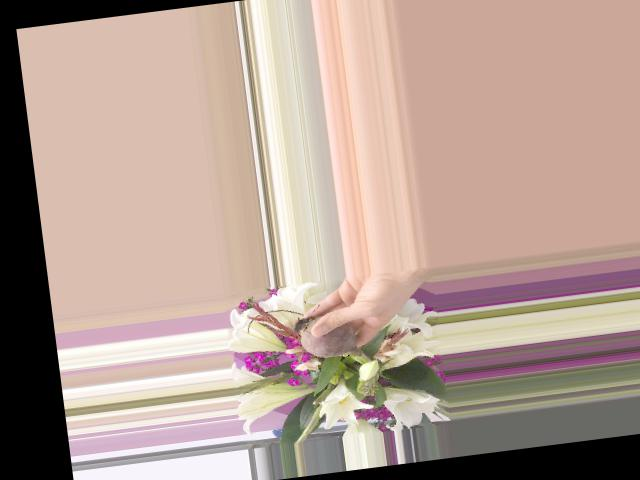beet: (292, 309, 373, 371)
